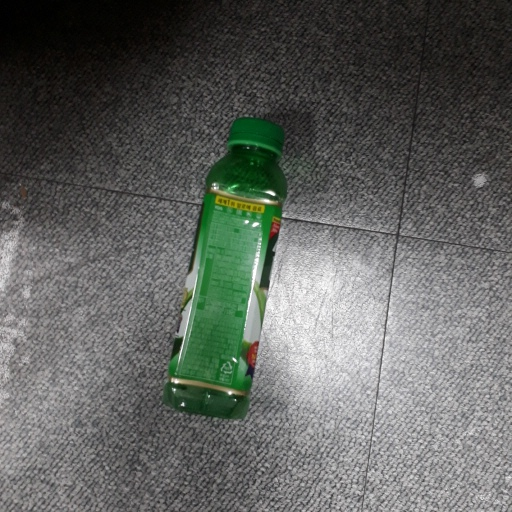Plastic_0: (166, 116, 286, 423)
